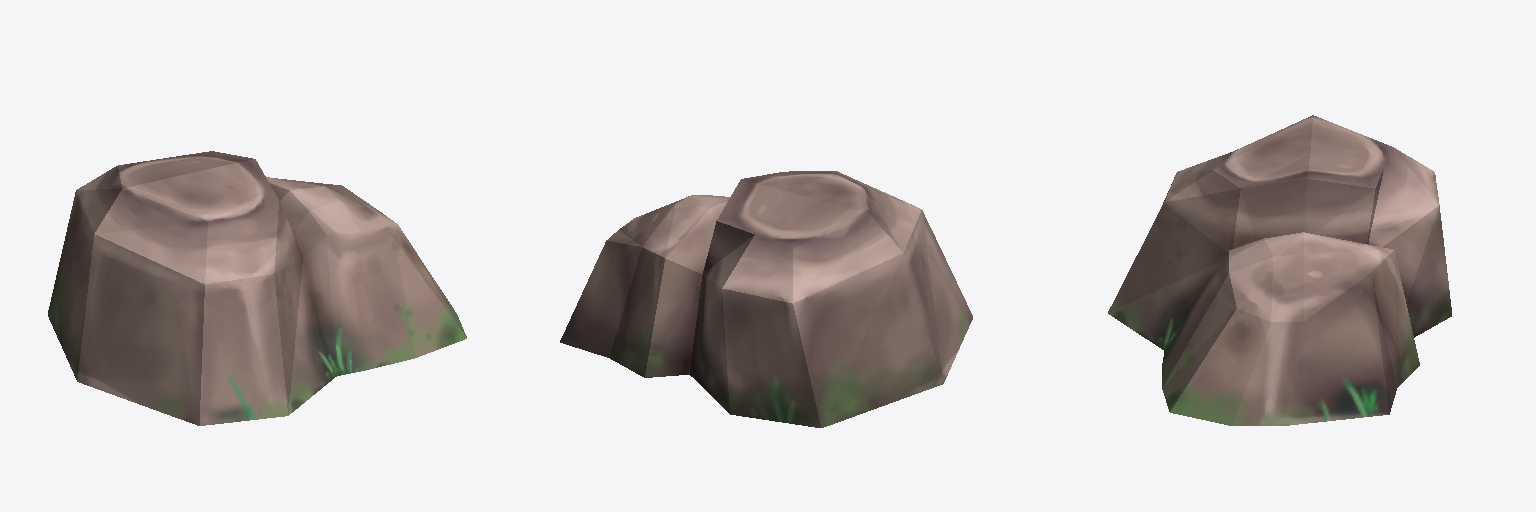
The picture shows the model from 3 angles: view 1: azimuth 30°, elevation 25°; view 2: azimuth 150°, elevation 25°; view 3: azimuth 270°, elevation 25°; orthographic projection.
Parts seen in each view (by area): view 1: Cube.002_Cube.005; view 2: Cube.002_Cube.005; view 3: Cube.002_Cube.005.
Boxes of the visible parts, box(x1,y1,x2,y2) form: Cube.002_Cube.005: box(48, 151, 466, 425); Cube.002_Cube.005: box(560, 171, 972, 427); Cube.002_Cube.005: box(1108, 115, 1451, 425).
Size of the model in its own units: 10.47 by 4.73 by 8.83.
1 materials, 1 textured.